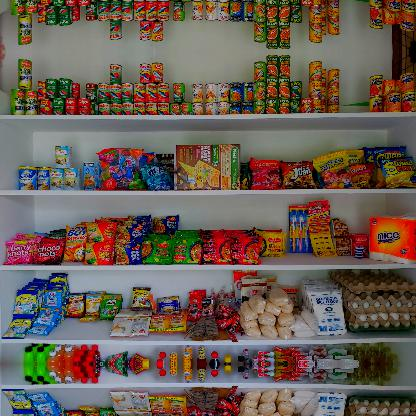Koko-Krunch: (173, 144, 243, 190)
